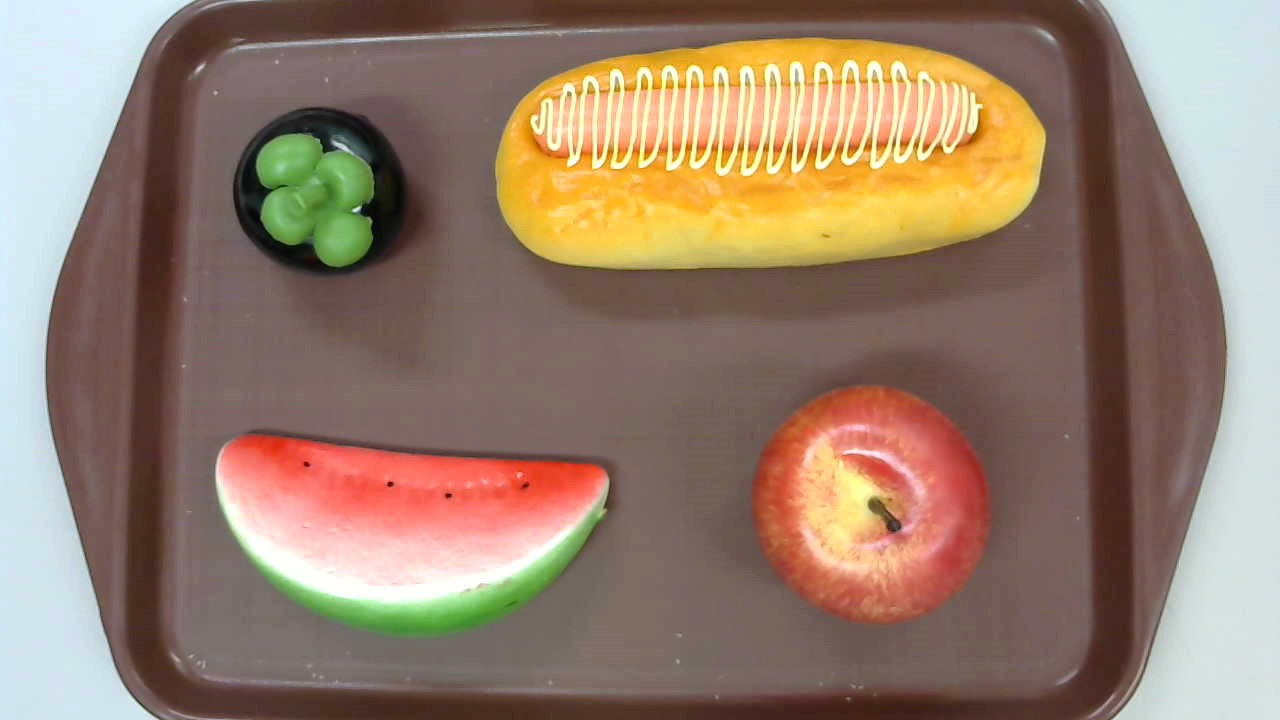hot dog: (496, 36, 1047, 270)
mangosteen: (232, 108, 406, 278)
red apple: (753, 384, 996, 627)
water melon: (214, 432, 610, 636)
